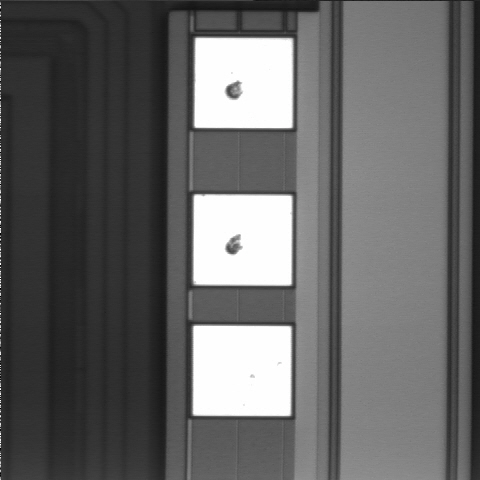pad: (194, 38, 293, 128), (193, 195, 292, 285), (193, 326, 291, 416)
